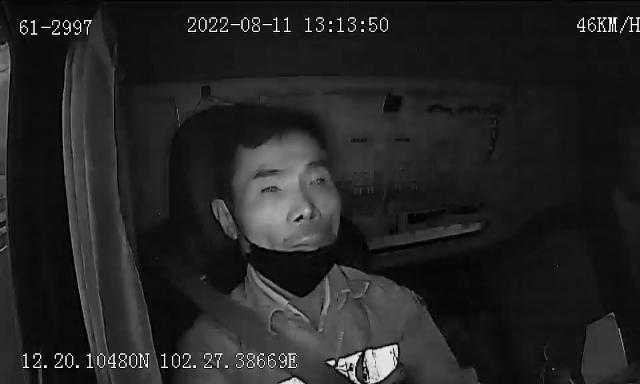SafeDriving: (253, 176, 289, 200), (302, 167, 334, 193)
Seatbelt: (167, 268, 361, 384)
